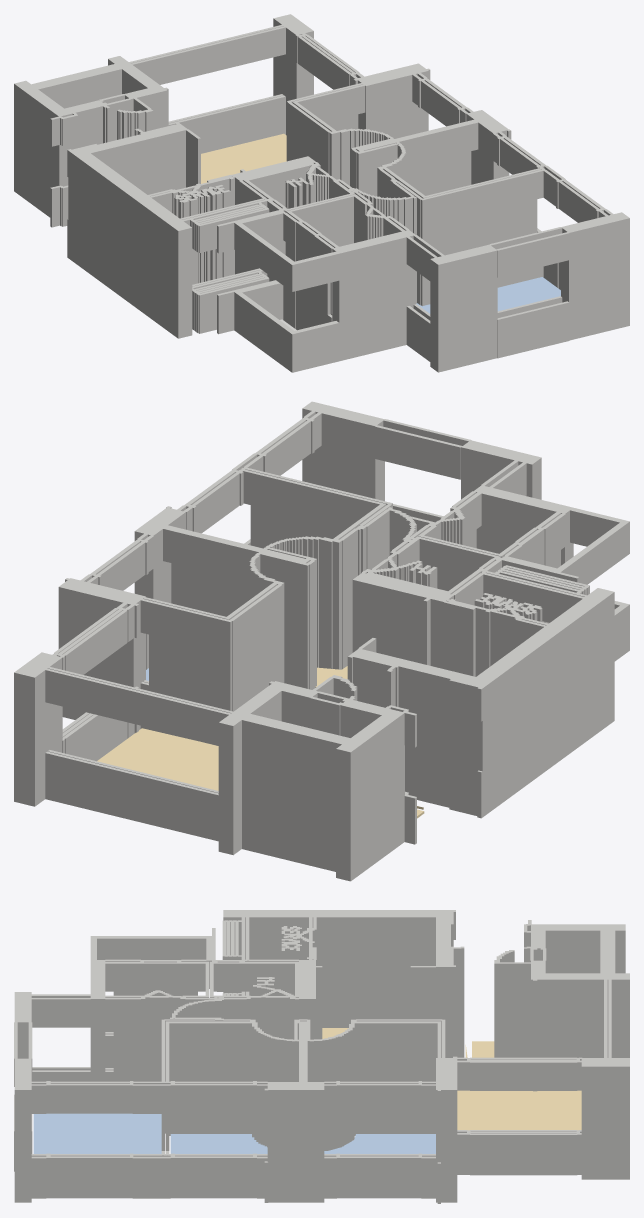
3 renders of one model, top to bottom at view 1: azimuth 30°, elevation 25°; view 2: azimuth 150°, elevation 25°; view 3: azimuth 270°, elevation 25°, orthographic. The views are drawn at different scales.
Visible parts, largest first — view 1: walls, room:living:0, room:bedroom:4; view 2: walls, room:living:0; view 3: walls, room:living:0, room:bedroom:4, room:bedroom:1, room:bedroom:2.
Part boxes in pixels (box(x1,y1,x2,y2)): walls: box(14, 14, 629, 372); room:living:0: box(201, 133, 286, 183); room:bedroom:4: box(416, 277, 560, 313); walls: box(14, 401, 629, 881); room:living:0: box(97, 666, 424, 818); walls: box(14, 910, 629, 1203); room:living:0: box(322, 1028, 581, 1130); room:bedroom:4: box(33, 1113, 161, 1153); room:bedroom:1: box(324, 1134, 435, 1153); room:bedroom:2: box(170, 1134, 267, 1153).
Size of the model in its own units: 9.64 by 2.8 by 13.86.
